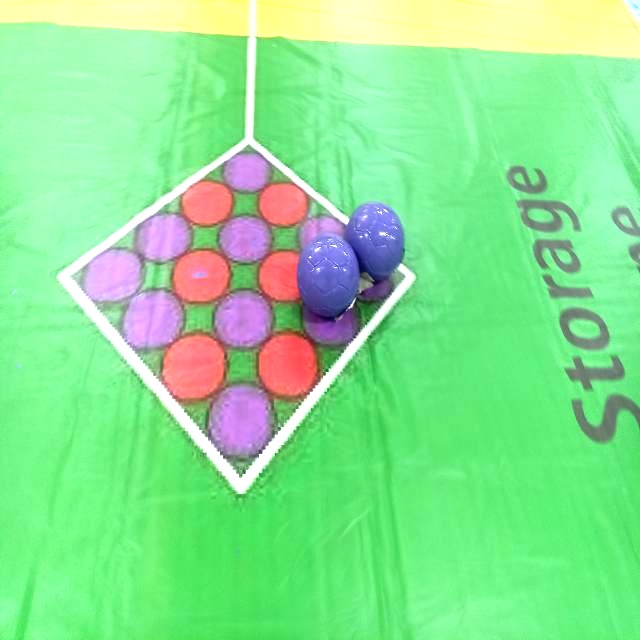purple_ball: (291, 227, 364, 323), (347, 194, 418, 281)
